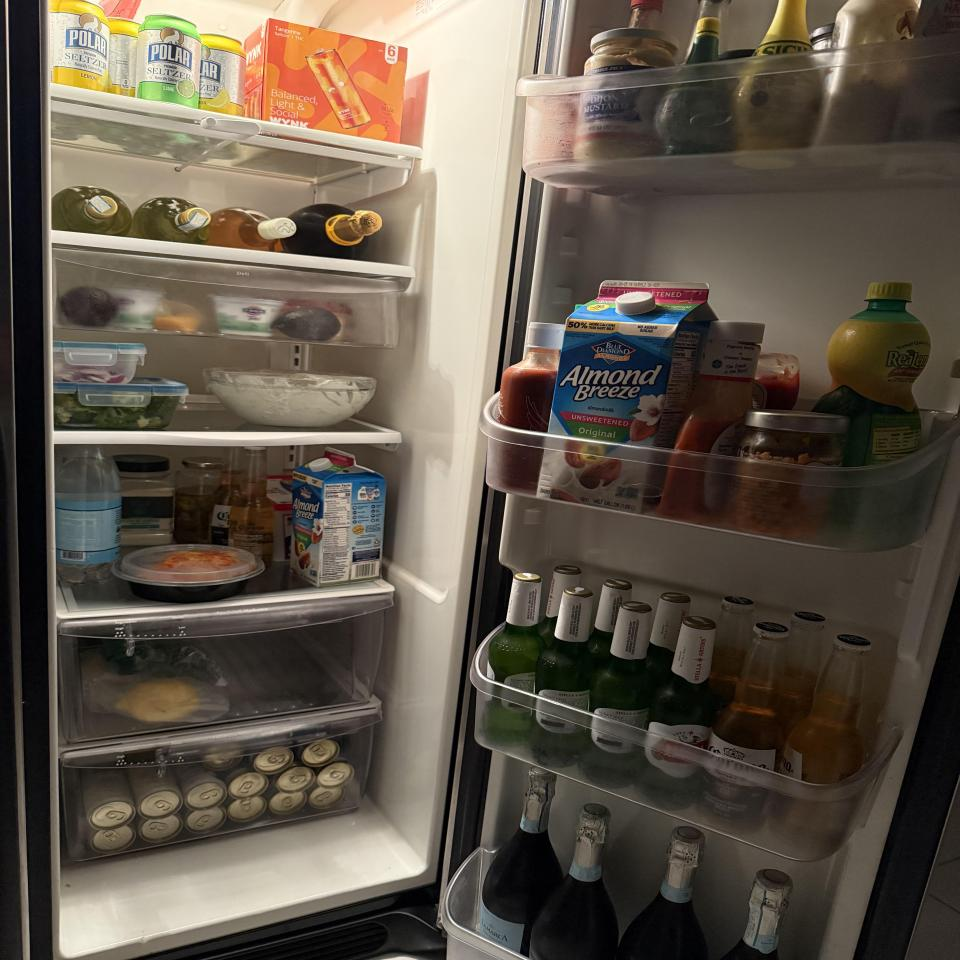Aguacate: (59, 286, 118, 328), (275, 307, 342, 341)
Leche: (538, 280, 719, 513), (288, 447, 388, 588)
Limón: (114, 678, 200, 722)
Yogur: (209, 293, 288, 337), (105, 288, 166, 329)
mustard: (576, 28, 680, 177)
